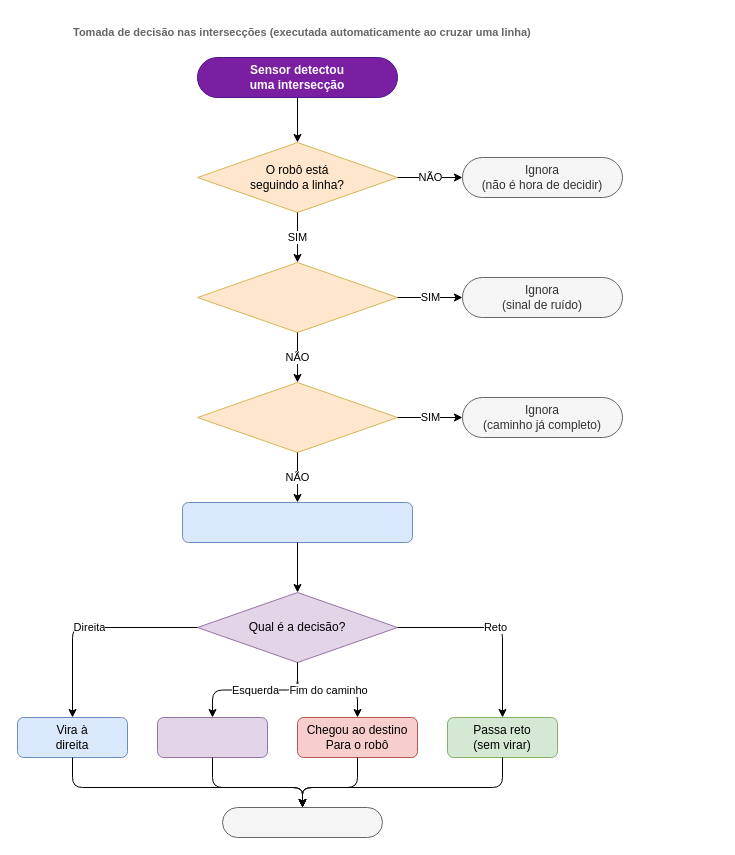
Some shapes in this 735 by 855 pixel diagram are drawn without their labels. Each missing label, with the centre of its shape:
Decisão executada: point 302,822
Leitura muito rápida? (pode ser ruído): point 297,297
Lê a próxima decisão do caminho: point 297,522
Todas as decisões já foram executadas?: point 297,417
Vira à esquerda: point 212,737
